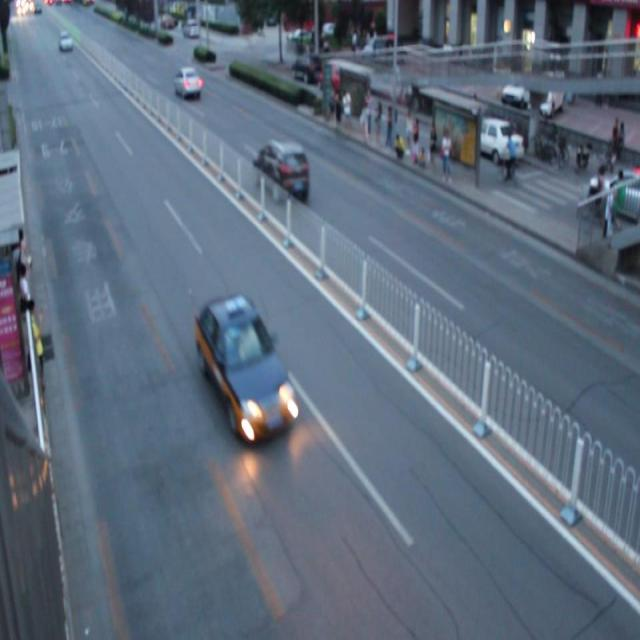car: (195, 294, 297, 444), (250, 138, 308, 205), (174, 66, 202, 101)
